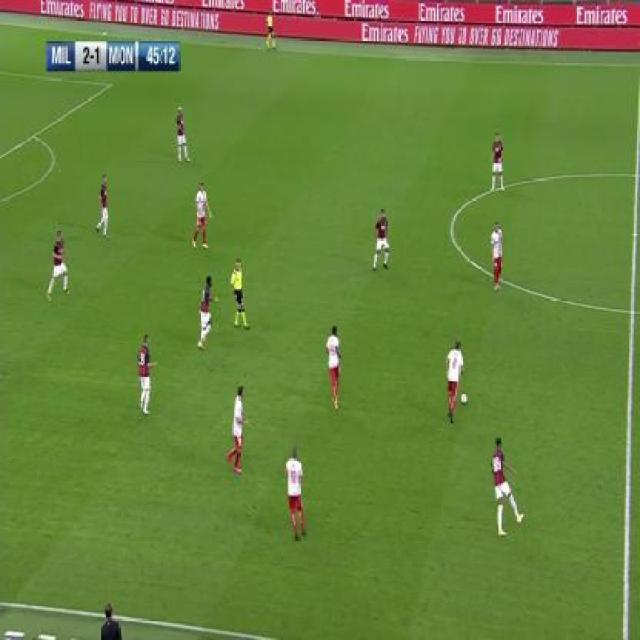ball: (460, 390, 468, 406)
player: (489, 436, 523, 538), (225, 384, 248, 477), (285, 445, 307, 541), (136, 334, 159, 419), (46, 228, 72, 302), (195, 274, 218, 351), (445, 335, 465, 423), (191, 180, 213, 253), (326, 323, 343, 412), (229, 256, 249, 330), (372, 206, 392, 274), (94, 174, 111, 239), (489, 130, 506, 195), (489, 220, 503, 293), (175, 103, 191, 165), (101, 603, 121, 640), (265, 6, 278, 52)
